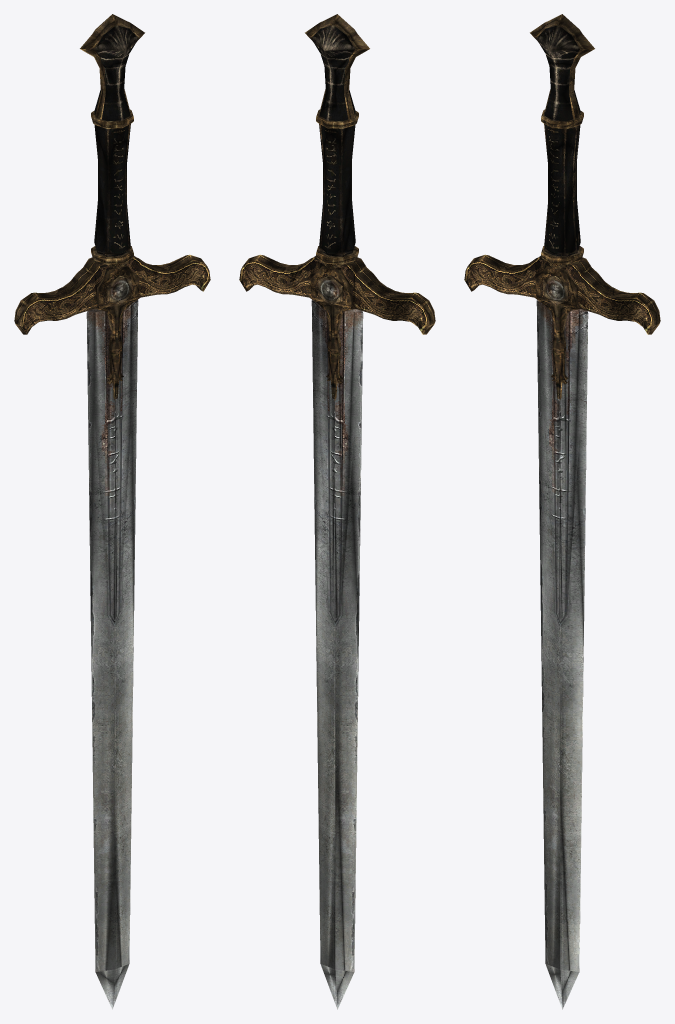
The model's file is Sword.fbx.
The picture shows the model from 3 angles, left to right: view 1: azimuth 30°, elevation 25°; view 2: azimuth 150°, elevation 25°; view 3: azimuth 330°, elevation 25°; orthographic projection.
Visible parts, largest first — view 1: Sword; view 2: Sword; view 3: Sword.
Part boxes in pixels (x1,y1,x2,y2): Sword: (14,14,210,1009); Sword: (239,14,435,1009); Sword: (464,14,660,1009).
Size of the model in its own units: 21.71 by 106 by 5.19.
Materials: 1 (1 with a texture image).
